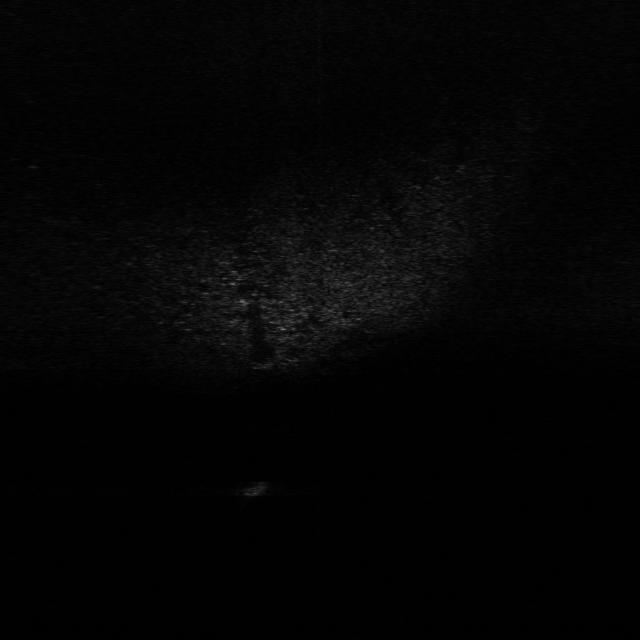cylinder: (243, 475, 274, 500)
